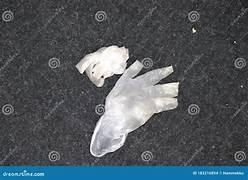Glove: (90, 61, 178, 156), (76, 46, 128, 86)
